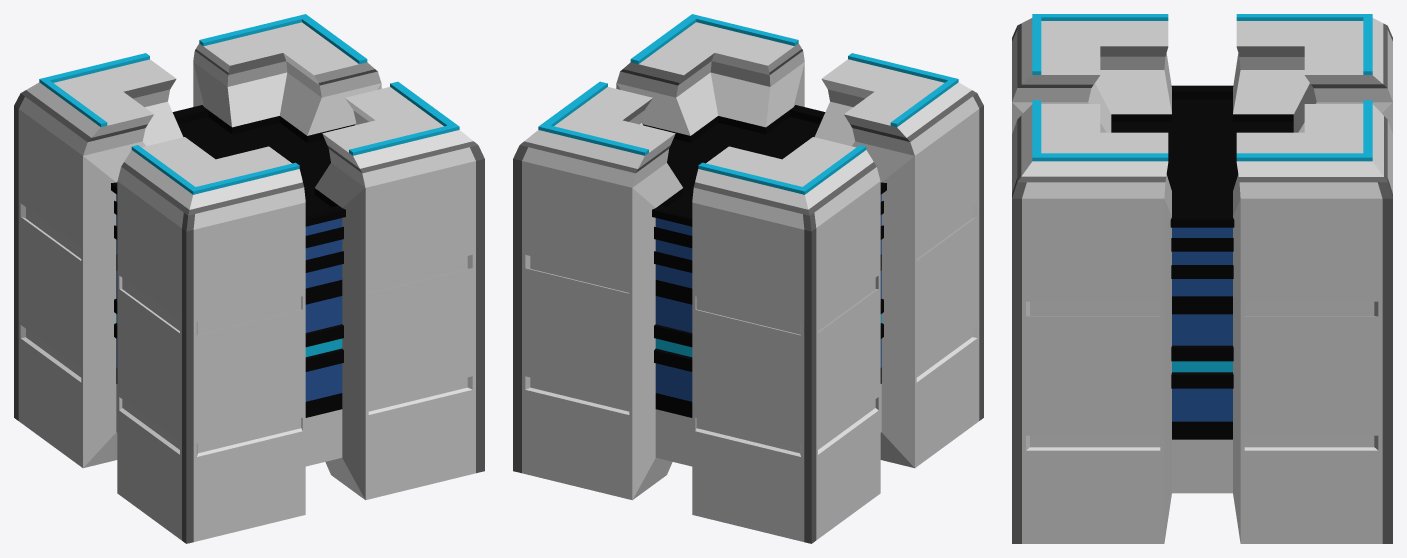
Rendered from Gedung4.fbx.
The picture shows the model from 3 angles, left to right: view 1: azimuth 30°, elevation 25°; view 2: azimuth 150°, elevation 25°; view 3: azimuth 270°, elevation 25°; orthographic projection. The views are drawn at different scales.
Parts seen in each view (by area): view 1: Cube.003; view 2: Cube.003; view 3: Cube.003.
Part boxes in pixels (x1,y1,x2,y2): Cube.003: (14, 14, 484, 543); Cube.003: (513, 14, 983, 543); Cube.003: (1012, 14, 1392, 543).
Bounding box in the file's own units: 168 × 184 × 168.
